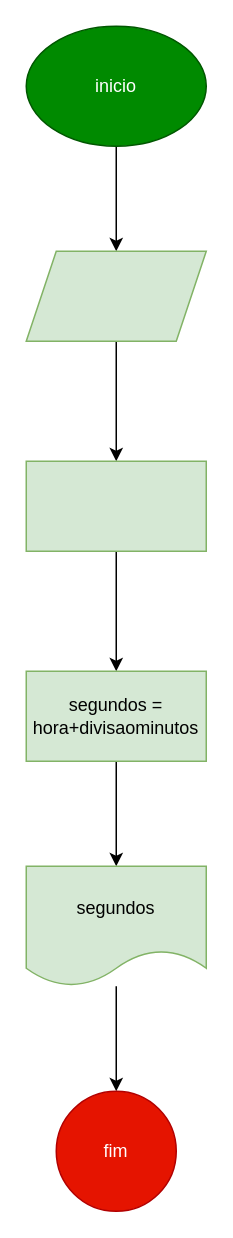
Image size: 233x1238. Some labels were removed from this diagram. The box of each missing label's shape, as (x1, y1, x2, y2) in pixels:
divisaominutos = (minutos/60): (25, 460, 206, 551)
horas,minutos: (25, 250, 206, 341)
